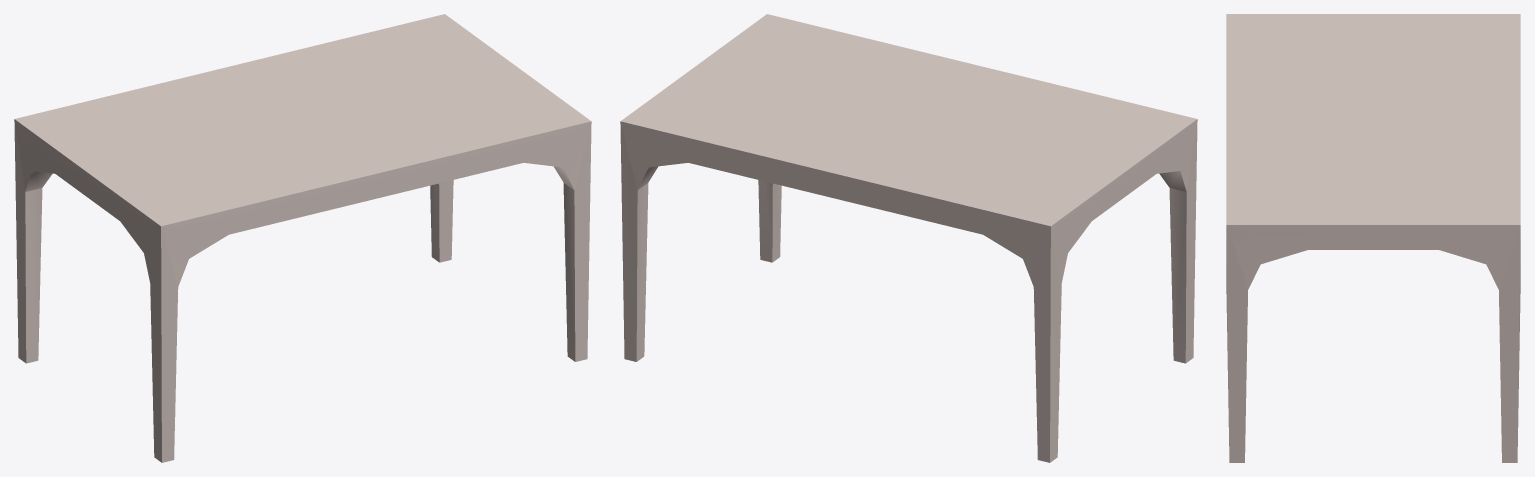
Rendered from kitchen_table_004.glb.
The picture shows the model from 3 angles, left to right: view 1: azimuth 30°, elevation 25°; view 2: azimuth 150°, elevation 25°; view 3: azimuth 270°, elevation 25°; orthographic projection.
Visible parts, largest first — view 1: kitchen_table_004; view 2: kitchen_table_004; view 3: kitchen_table_004.
Boxes of the visible parts, <box> form: kitchen_table_004: <box>14,14,591,462</box>; kitchen_table_004: <box>620,14,1197,462</box>; kitchen_table_004: <box>1226,14,1520,462</box>.
Bounding box in the file's own units: 1.4 × 0.7389 × 0.8238.
1 material, 1 textured.
